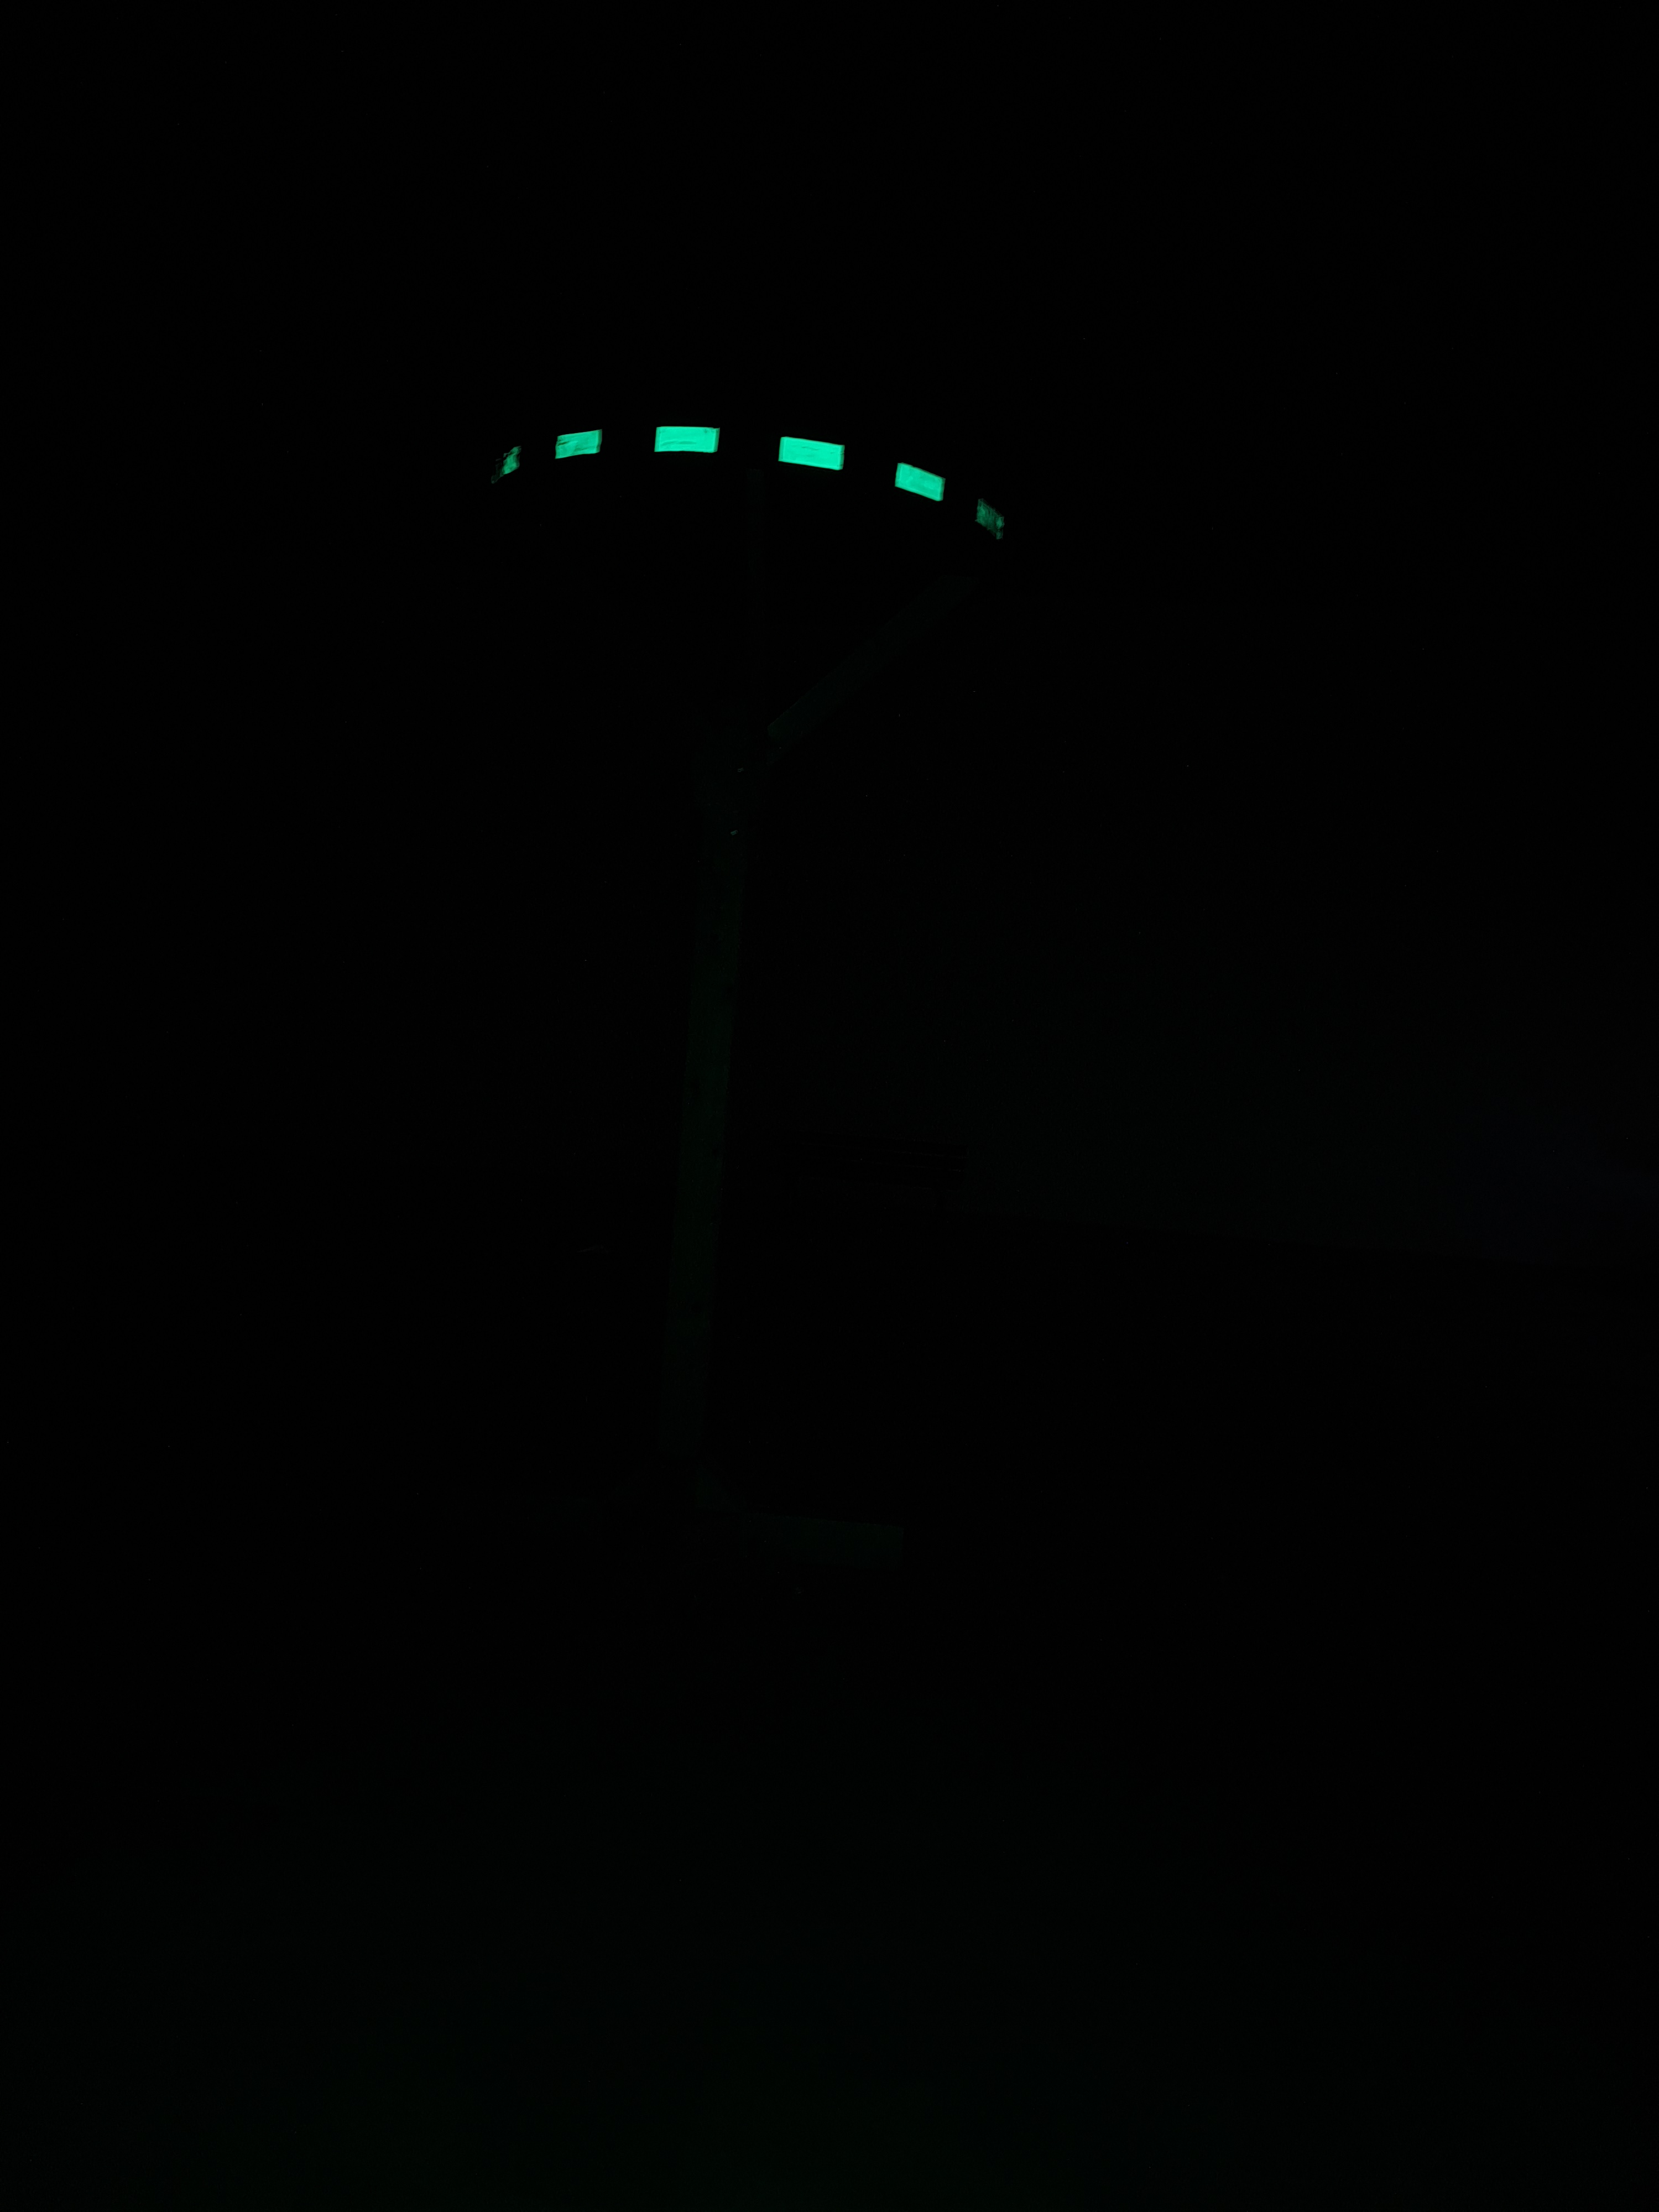hoop: (486, 399, 1009, 552)
